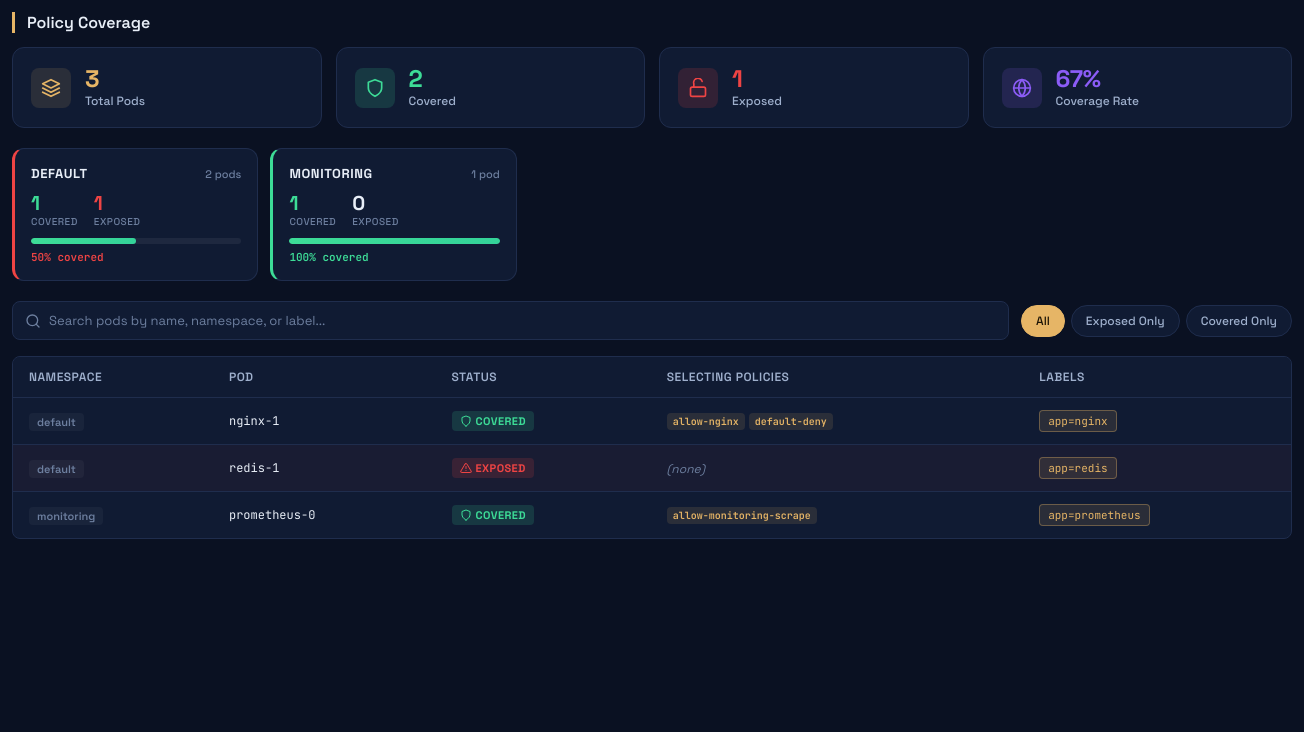
Test: PolicyCoveragePanel › resets to all pods when clicking "All" after filtering
Step 1. Click the button "Exposed Only" → [1125, 321], box [1071,305,1180,337]
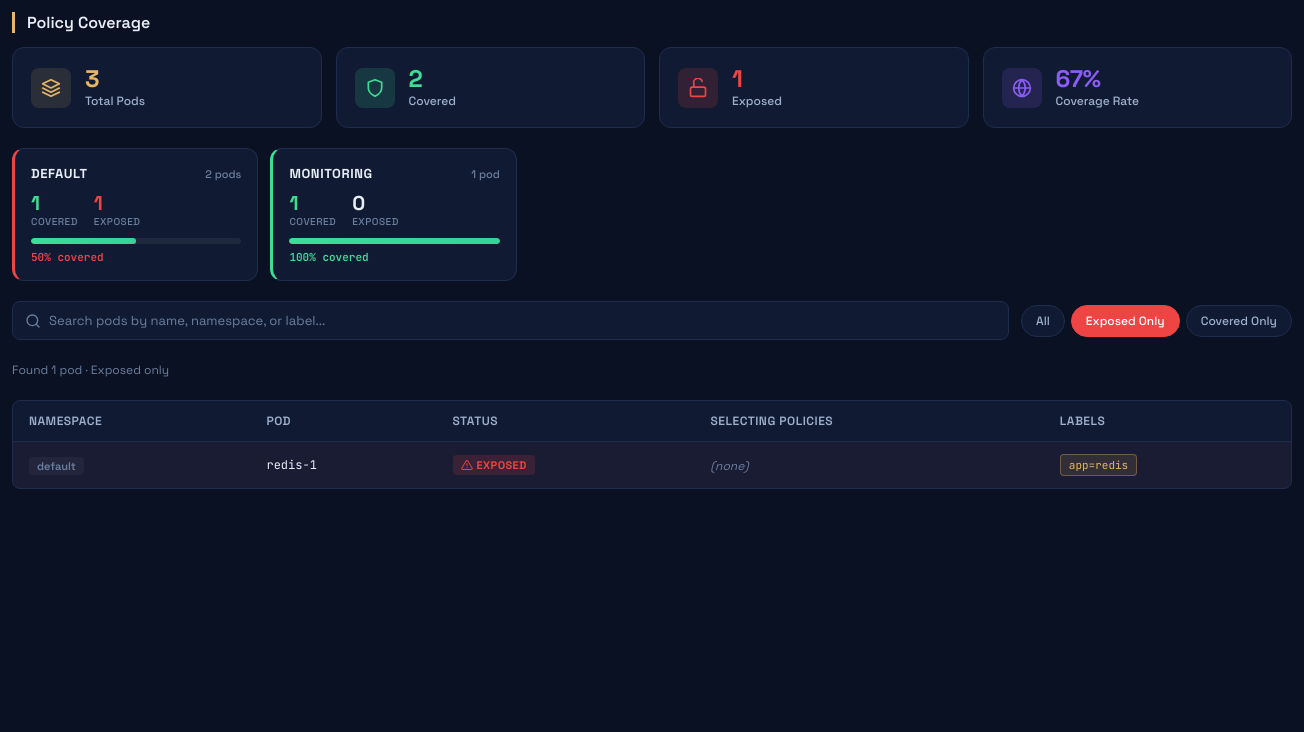
Step 2. Click the button "All" → [1043, 321], box [1021,305,1065,337]
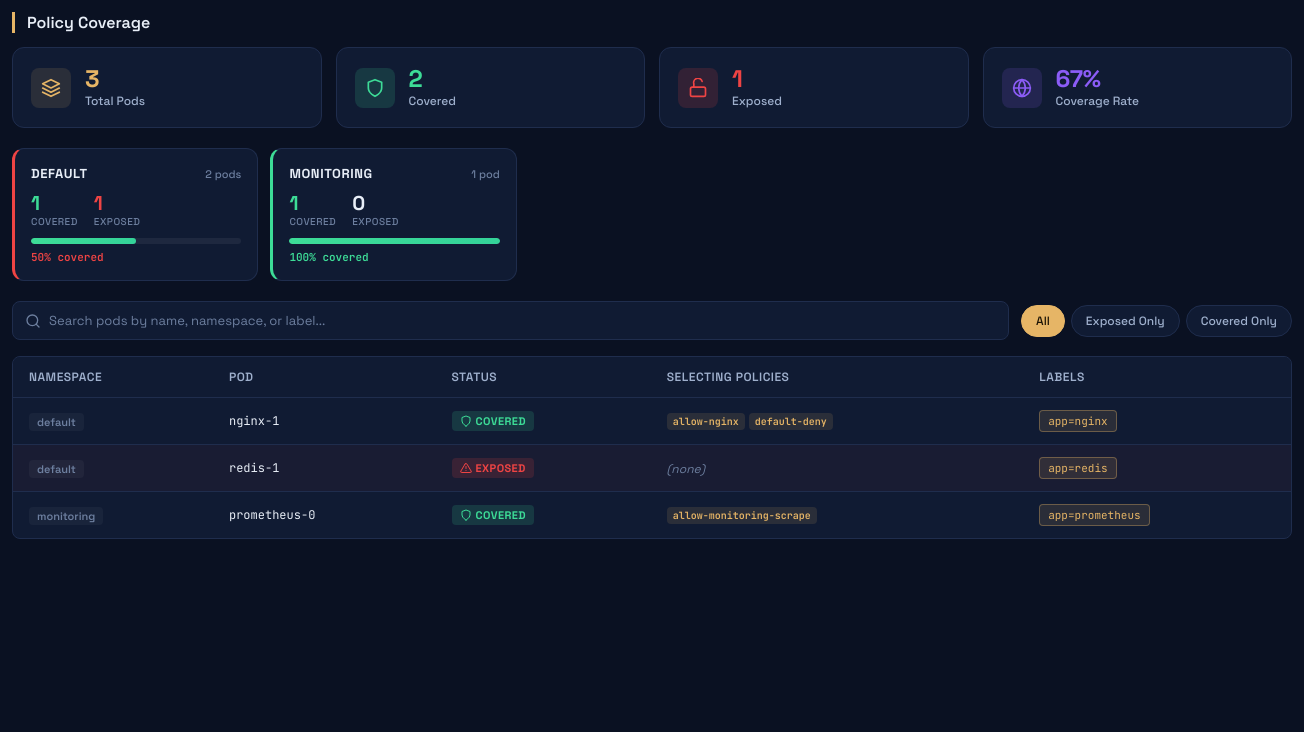
expect the text "redis-1" is shown: met, box [213,445,436,492]
expect the text "nginx-1" is shown: met, box [213,398,436,445]
expect the text "prometheus-0" is shown: met, box [213,492,436,538]
